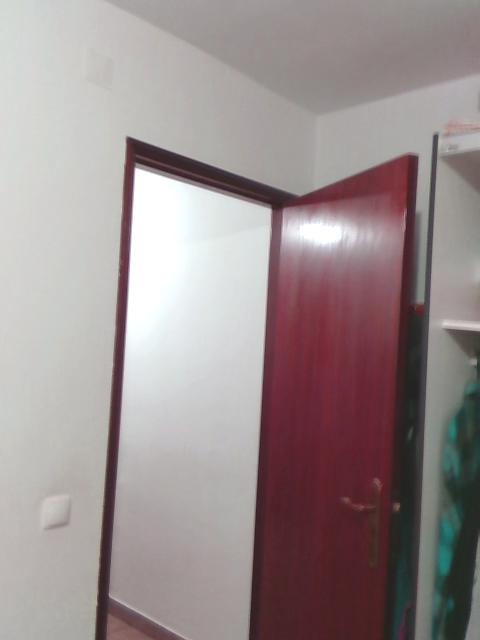open_door: (93, 133, 302, 639)
